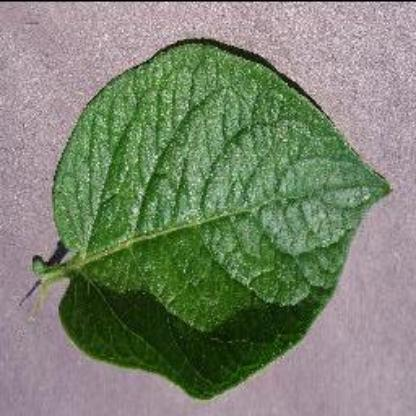Healthy-plant: (39, 38, 393, 400)
